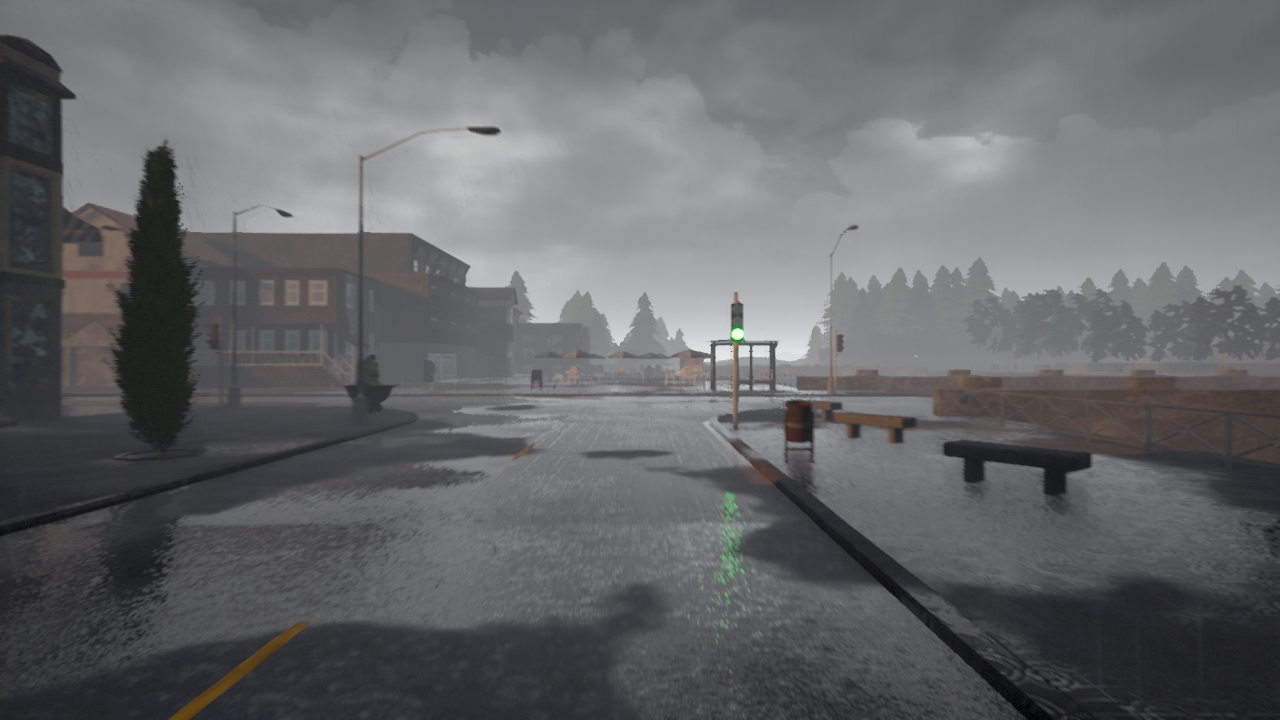green: (728, 301, 744, 345)
